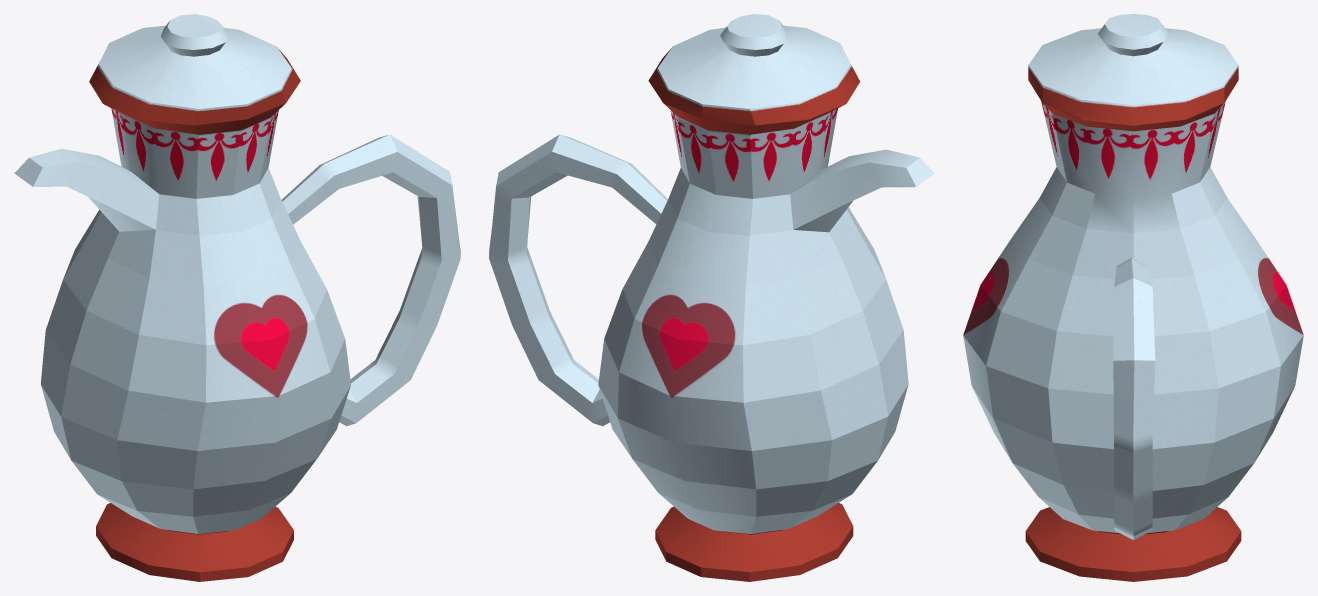
The model's file is teapot2.fbx.
3 views of the same model, side by side, from view 1: azimuth 30°, elevation 25°; view 2: azimuth 150°, elevation 25°; view 3: azimuth 270°, elevation 25° (orthographic).
Parts seen in each view (by area): view 1: teapot2:teapot_geo; view 2: teapot2:teapot_geo; view 3: teapot2:teapot_geo.
Boxes of the visible parts, left/top/right/bottom form: teapot2:teapot_geo: left=14, top=14, right=460, bottom=581; teapot2:teapot_geo: left=489, top=14, right=934, bottom=581; teapot2:teapot_geo: left=963, top=14, right=1303, bottom=581.
Bounding box in the file's own units: 7.83 × 8.78 × 5.25.
